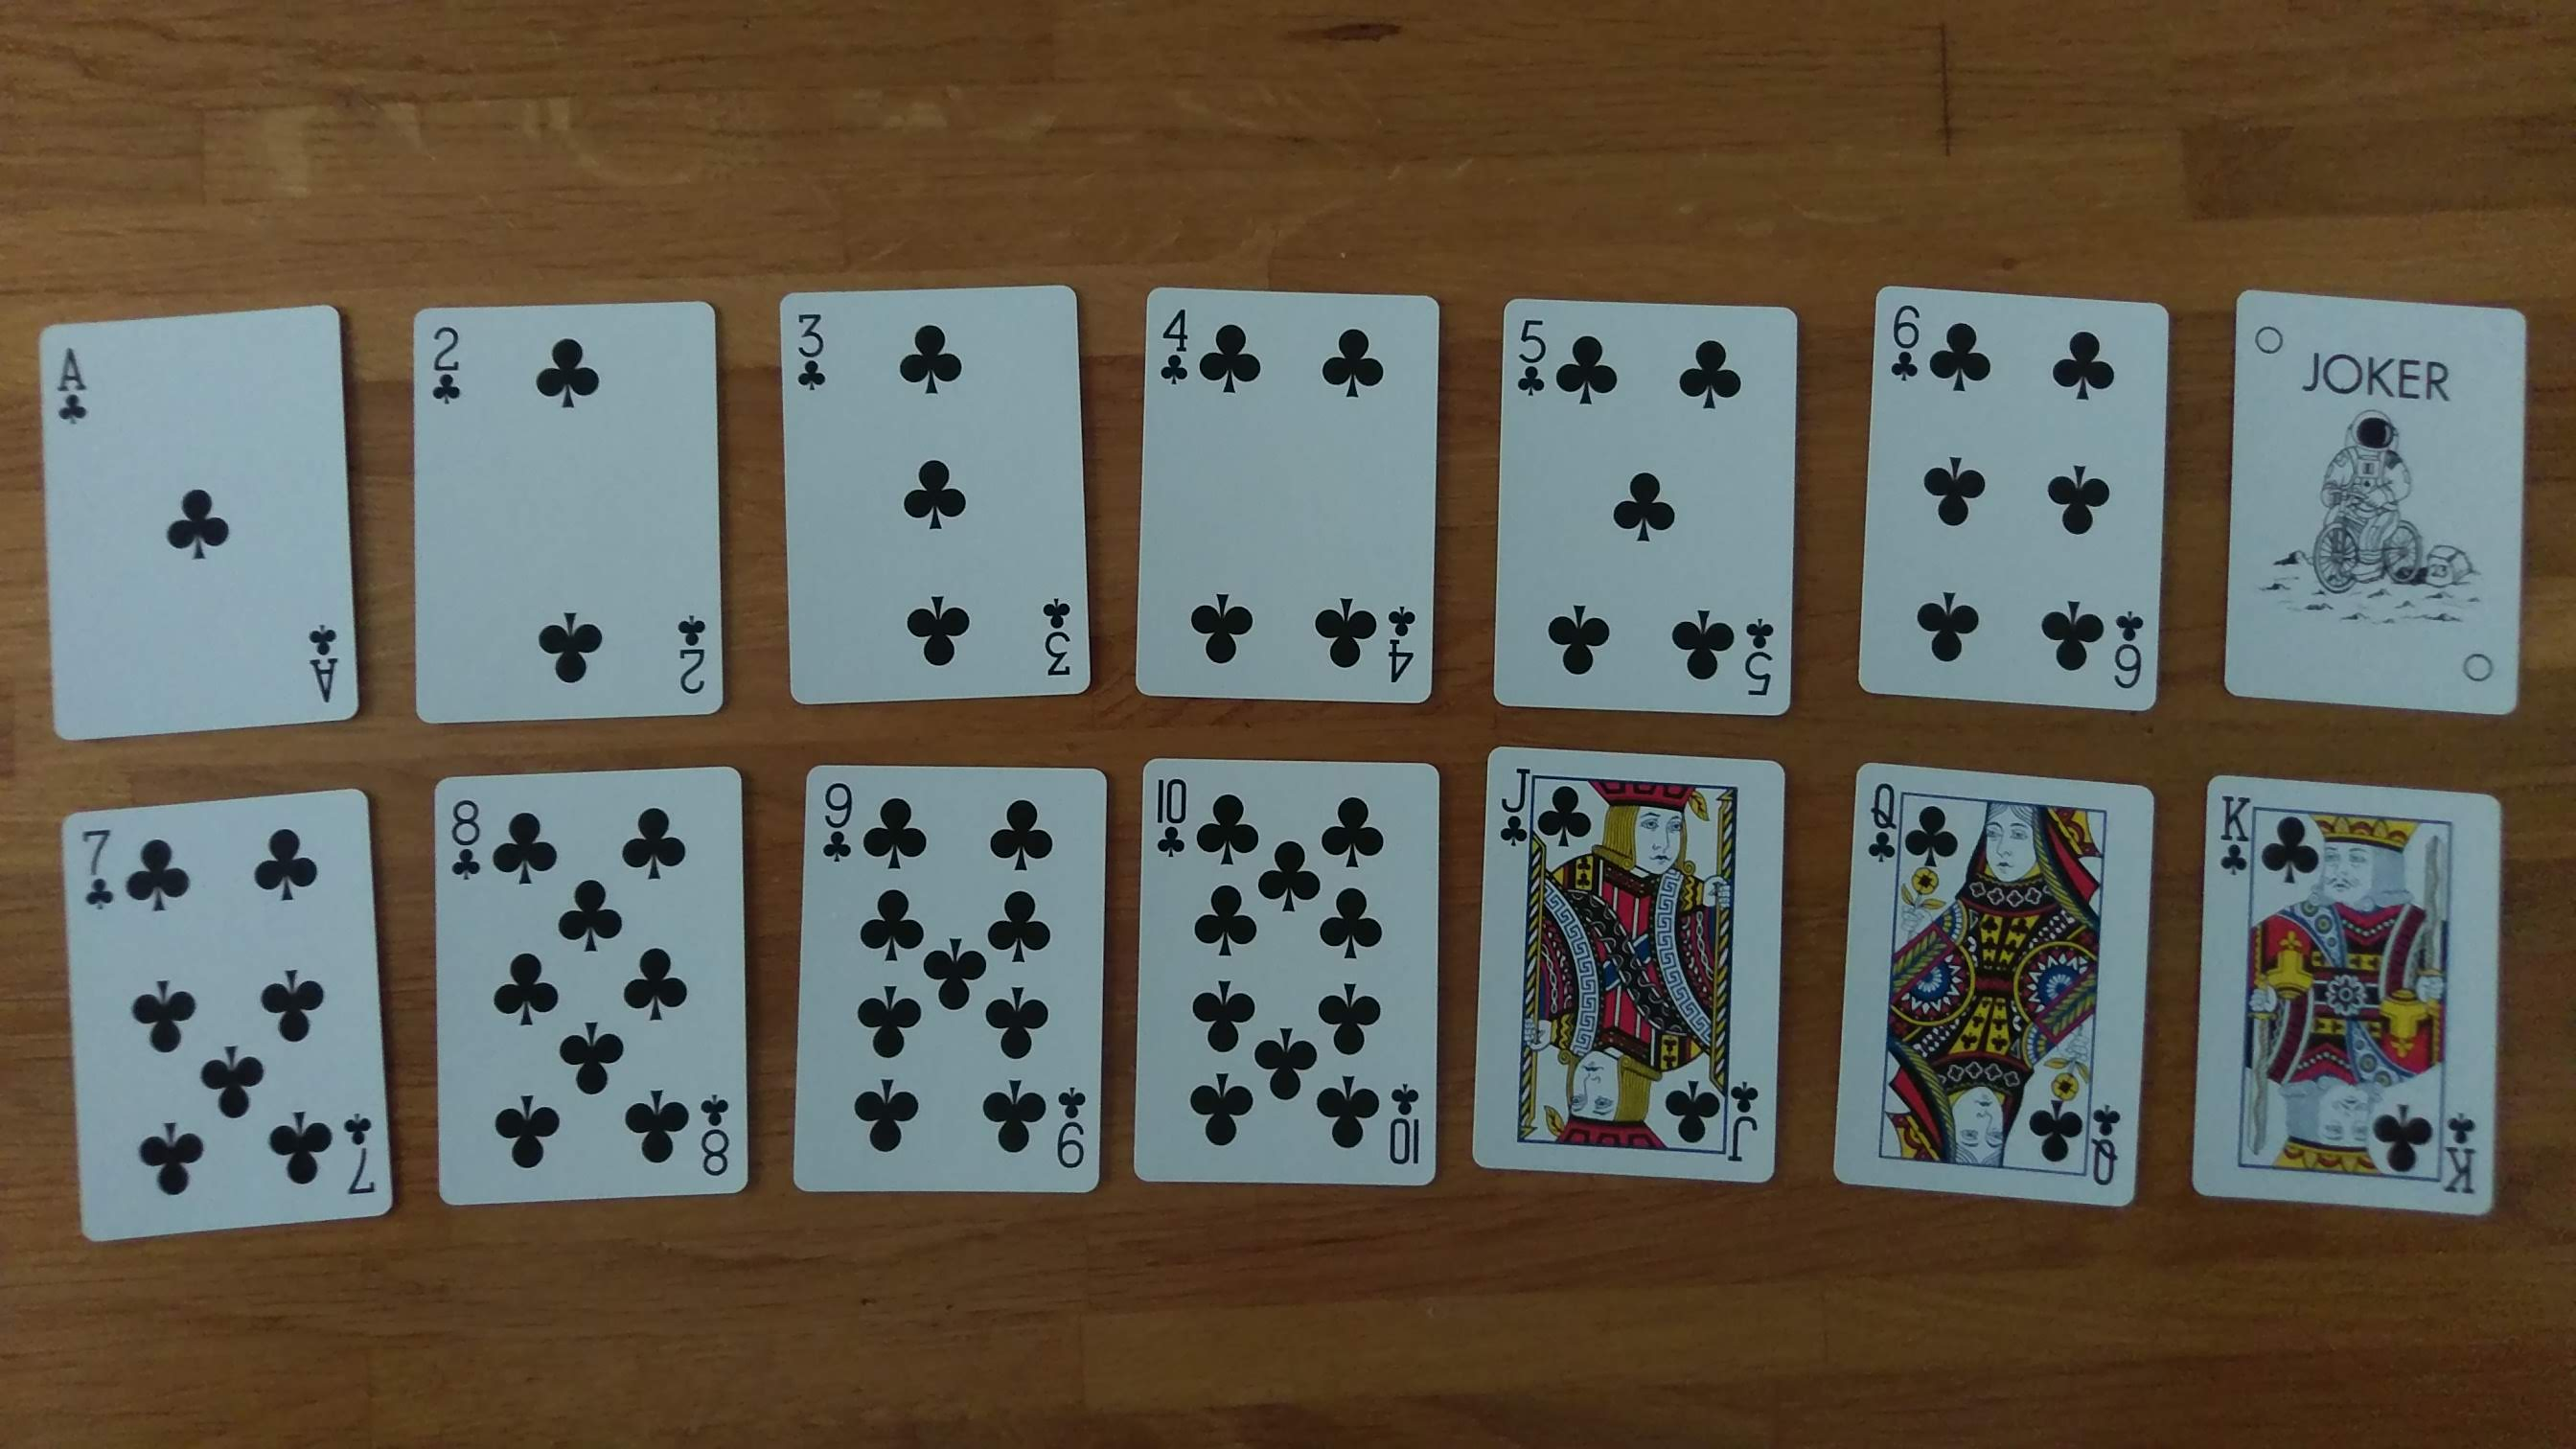10F: (1375, 1069, 1440, 1187), (1145, 763, 1203, 878)
1F: (46, 329, 103, 439), (294, 602, 347, 715)
2F: (665, 602, 717, 708), (426, 317, 476, 412)
3F: (784, 295, 842, 407), (1030, 586, 1083, 692)
4F: (1375, 591, 1424, 692), (1159, 295, 1201, 395)
5F: (1730, 596, 1787, 729), (1502, 303, 1560, 409)
6F: (2095, 600, 2167, 709), (1888, 280, 1928, 398)
7F: (65, 803, 131, 927), (326, 1100, 386, 1217)
8F: (685, 1072, 740, 1200), (444, 775, 488, 883)
9F: (1049, 1069, 1095, 1191), (816, 773, 867, 878)
JF: (1721, 1067, 1778, 1177), (1499, 754, 1537, 855)
KF: (2436, 1100, 2493, 1207), (2217, 782, 2265, 883)
QF: (1849, 763, 1911, 878), (2088, 1093, 2134, 1210)
